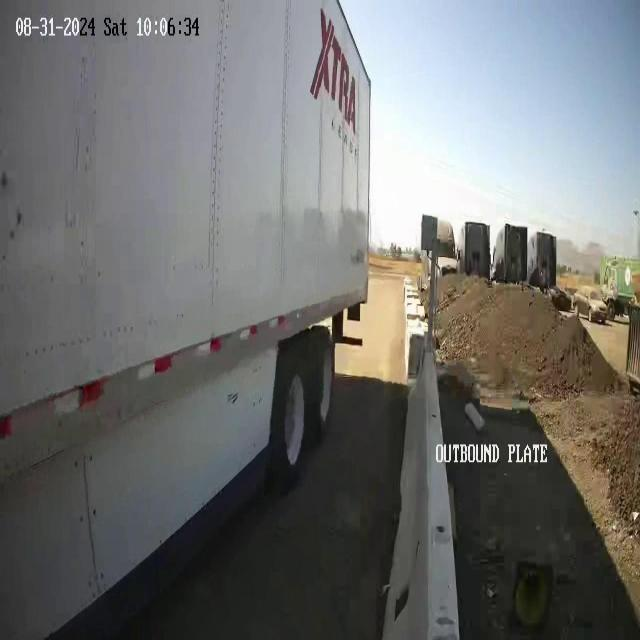TRUCK_OUT: (1, 1, 372, 636)
